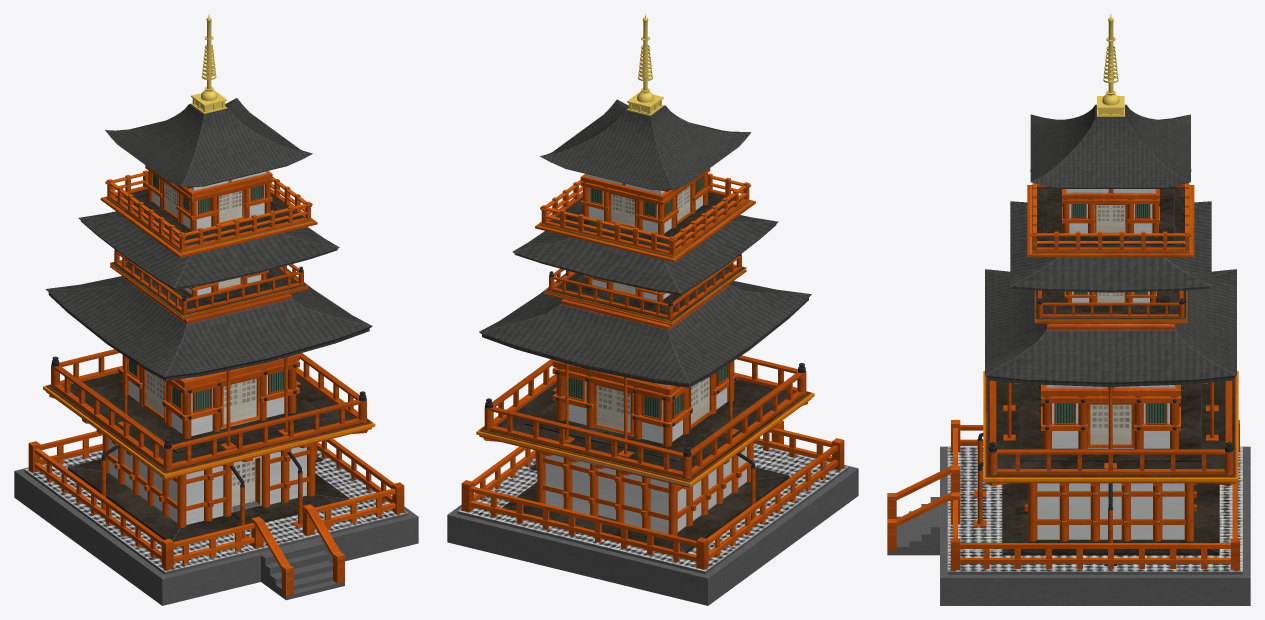
The model's file is pagoda.glb.
3 renders of one model, left to right at view 1: azimuth 30°, elevation 25°; view 2: azimuth 150°, elevation 25°; view 3: azimuth 270°, elevation 25°, orthographic. The views are drawn at different scales.
Visible parts, largest first — view 1: Japanese_Shrine; view 2: Japanese_Shrine; view 3: Japanese_Shrine.
Part boxes in pixels (left/top/right/bottom): Japanese_Shrine: left=14, top=14, right=418, bottom=605; Japanese_Shrine: left=447, top=14, right=858, bottom=605; Japanese_Shrine: left=887, top=14, right=1250, bottom=605.
Size of the model in its own units: 2000 by 3738 by 2340.
1 material, 1 textured.
